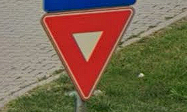cedeaza: (40, 11, 137, 103)
